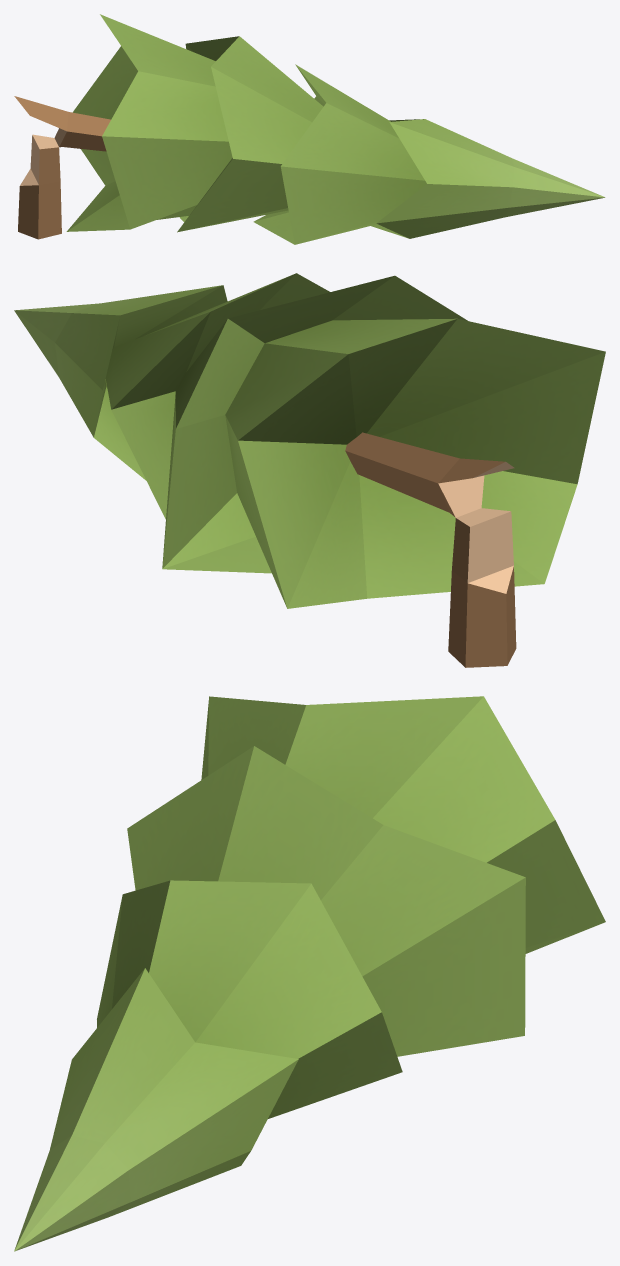
File: Pine_Tree_crk_m_02_LOD.fbx
The picture shows the model from 3 angles, top to bottom: view 1: azimuth 30°, elevation 25°; view 2: azimuth 150°, elevation 25°; view 3: azimuth 270°, elevation 25°; orthographic projection. The views are drawn at different scales.
Visible parts, largest first — view 1: Pine_Tree_crk_m_02_LOD0; view 2: Pine_Tree_crk_m_02_LOD0; view 3: Pine_Tree_crk_m_02_LOD0.
Boxes of the visible parts, x1=… form: Pine_Tree_crk_m_02_LOD0: x1=14, y1=14, x2=605, y2=244; Pine_Tree_crk_m_02_LOD0: x1=14, y1=273, x2=605, y2=667; Pine_Tree_crk_m_02_LOD0: x1=14, y1=696, x2=605, y2=1251.
Size of what is drawn, in the model's own units: 858 by 358 by 595.
